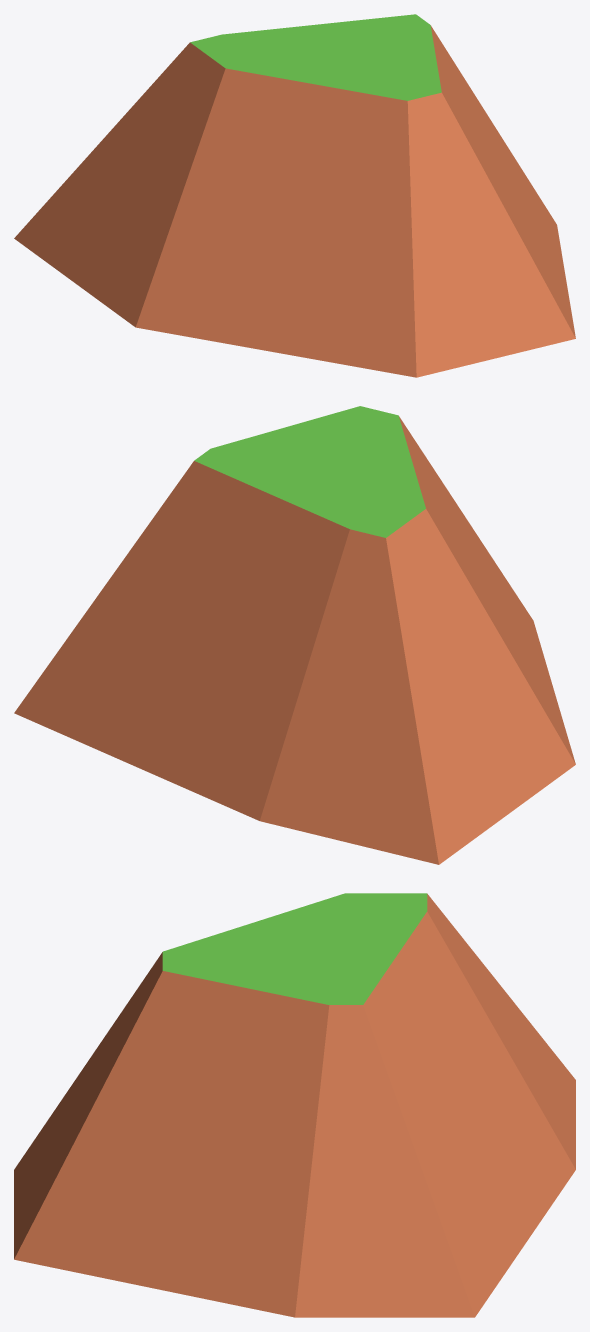
Rendered from rock_smallB.glb.
The picture shows the model from 3 angles, top to bottom: view 1: azimuth 30°, elevation 25°; view 2: azimuth 150°, elevation 25°; view 3: azimuth 270°, elevation 25°; orthographic projection. The views are drawn at different scales.
Visible parts, largest first — view 1: rock_smallB; view 2: rock_smallB; view 3: rock_smallB.
Boxes of the visible parts, bbox=[...] form: rock_smallB: bbox=[14, 14, 575, 377]; rock_smallB: bbox=[14, 406, 575, 864]; rock_smallB: bbox=[14, 893, 575, 1317].
Size of the model in its own units: 0.3608 by 0.1768 by 0.3608.
